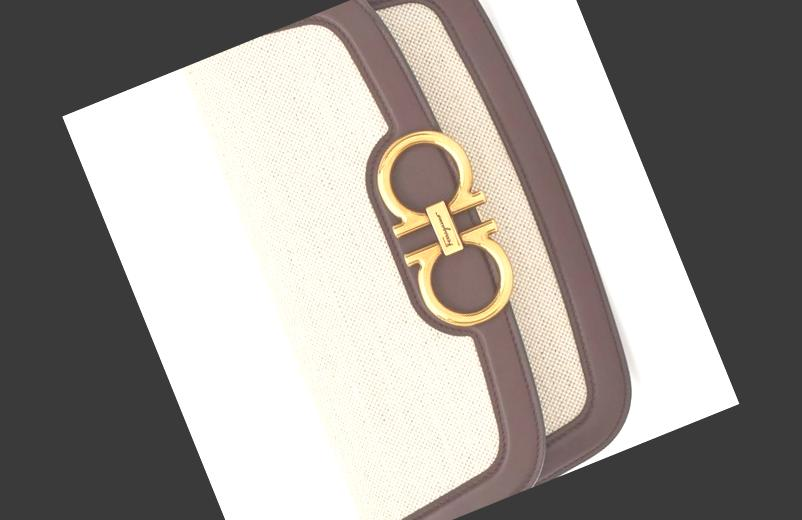FERRAGAMO: (338, 91, 547, 364)
